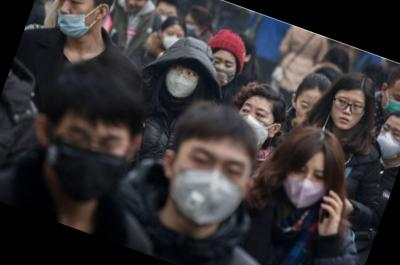with_mask: (34, 111, 139, 215), (156, 137, 257, 239), (275, 155, 334, 216), (229, 98, 280, 151), (161, 62, 202, 104), (370, 119, 400, 165), (204, 52, 240, 90), (378, 84, 400, 124), (160, 27, 185, 55)
without_mask: (328, 91, 370, 134)
